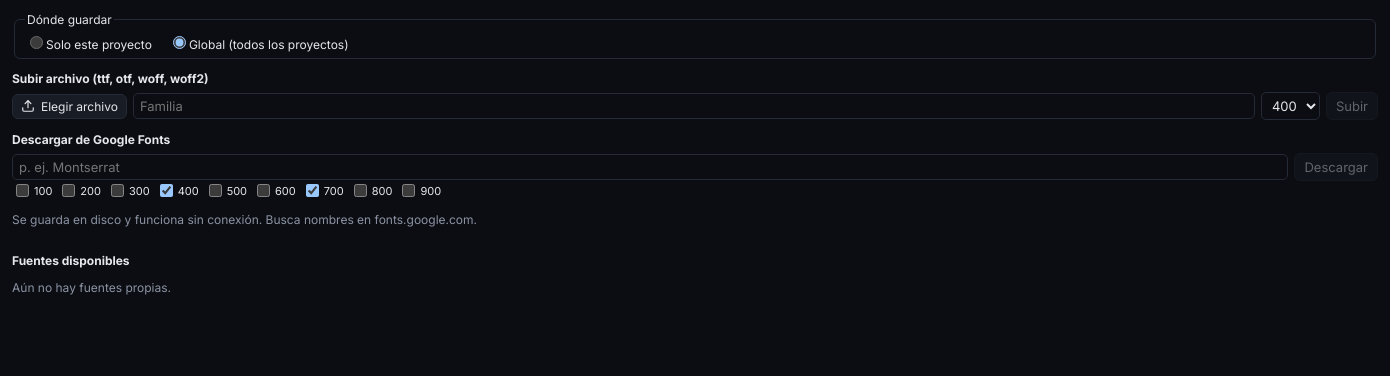
Test: BrandFontManager › shows a failure from the server
In the field named "Familia de Google Fonts": {"x": 650, "y": 167} [12,154,1288,180], type "Nope"
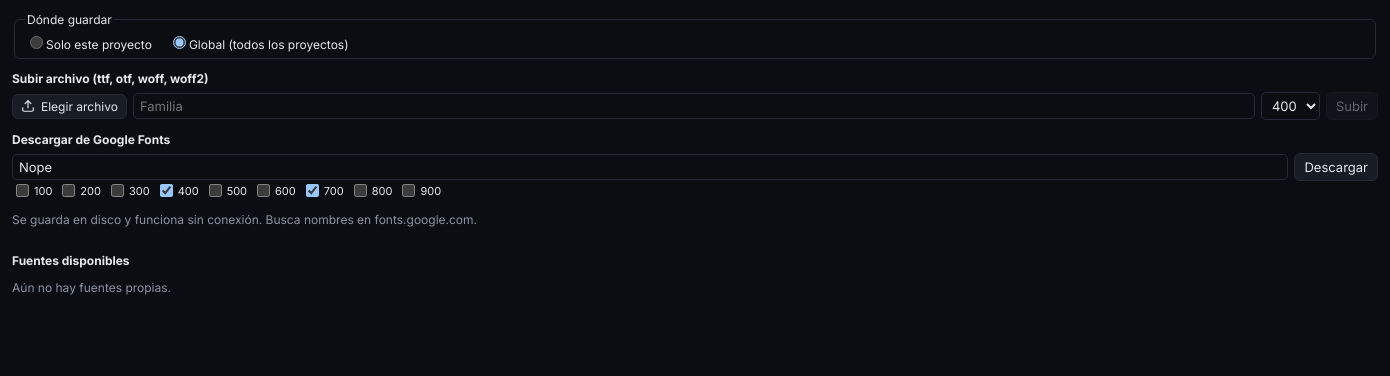
Click the button "Descargar": {"x": 1336, "y": 167} [1294,153,1378,181]
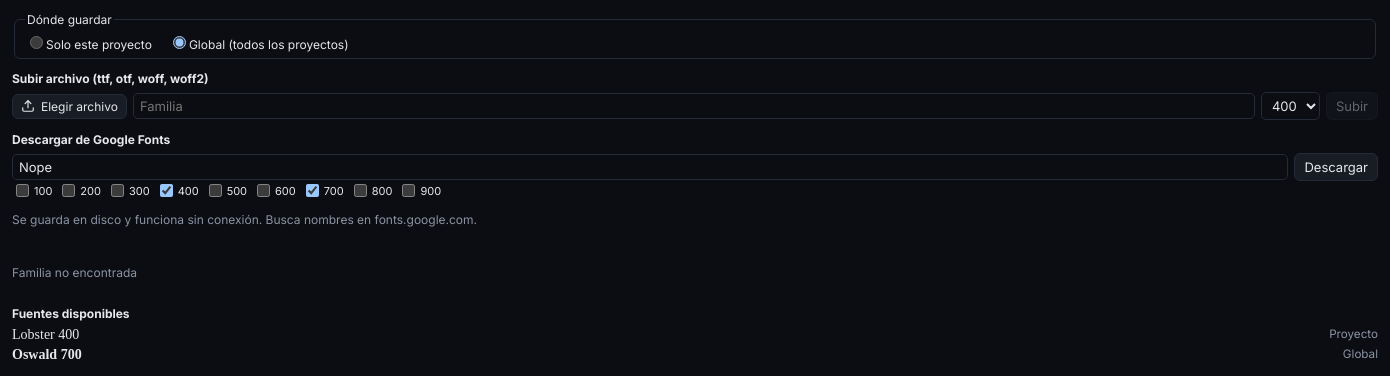
Result: the text "Familia no encontrada" is shown at [12,265,137,280]
